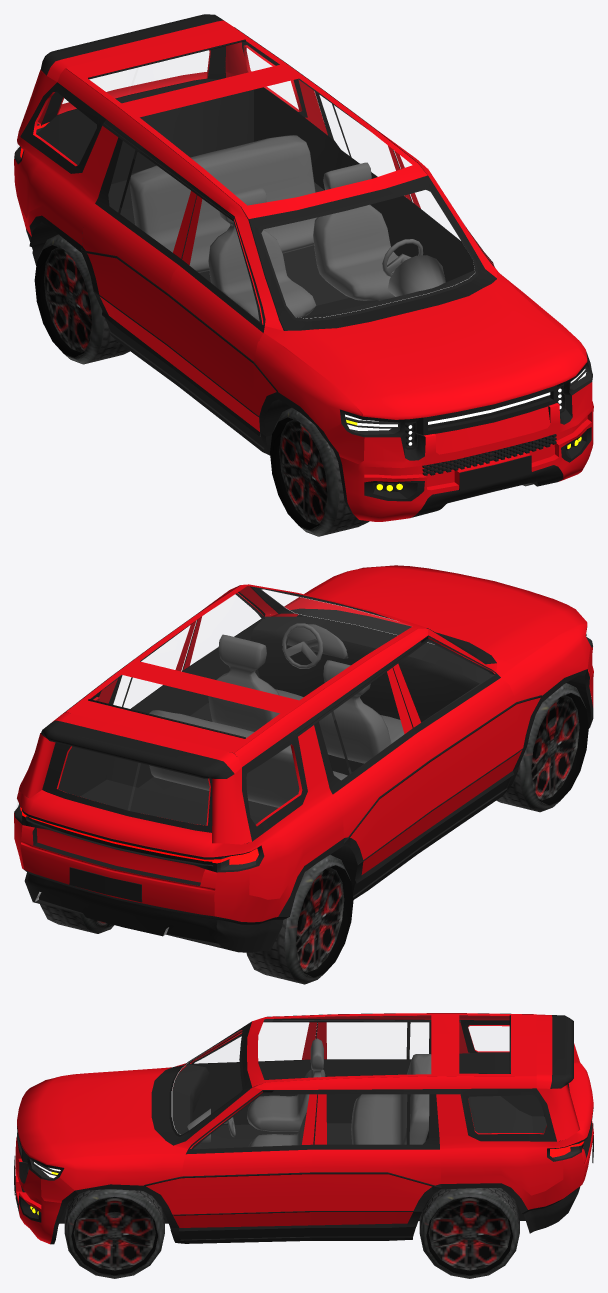
Rendered from rivian_r1s.glb.
3 views of the same model, one above another, from view 1: azimuth 30°, elevation 25°; view 2: azimuth 150°, elevation 25°; view 3: azimuth 270°, elevation 25° (orthographic). The views are drawn at different scales.
Visible parts, largest first — view 1: Cube.005, Plane.014, Cube.001, Plane.027, Plane, Plane.008, Plane.006, Plane.001, Cylinder.005, Cylinder.004, Plane.080, Plane.035 (+10 smaller); view 2: Cube.005, Plane.014, Cube.001, Plane.001, Plane.027, Plane.008, Plane.006, Cylinder.004, Plane.002, Cylinder.005, Plane.035, Plane (+8 smaller); view 3: Cube.005, Plane.014, Plane.008, Plane.027, Plane.006, Cube.001, Plane.001, Cylinder.003, Cylinder.001, Plane, Plane.035, Plane.080 (+6 smaller).
Part boxes in pixels (x1,y1,x2,y2): Cube.005: (14, 27, 592, 519); Plane.014: (263, 270, 587, 419); Cube.001: (130, 135, 445, 321); Plane.027: (57, 27, 427, 218); Plane: (254, 277, 593, 521); Plane.008: (167, 265, 508, 429); Plane.006: (82, 204, 178, 364); Plane.001: (14, 72, 327, 235); Cylinder.005: (270, 407, 369, 536); Cylinder.004: (34, 234, 129, 364); Plane.080: (249, 175, 496, 330); Plane.035: (40, 14, 233, 81); Cube.005: (14, 585, 593, 952); Plane.014: (264, 565, 586, 676); Cube.001: (149, 623, 404, 807); Plane.001: (17, 679, 343, 899); Plane.027: (61, 584, 427, 766); Plane.008: (417, 677, 517, 830); Plane.006: (333, 733, 431, 874); Cylinder.004: (246, 854, 353, 984); Plane.002: (20, 825, 216, 916); Cylinder.005: (496, 683, 588, 812); Plane.035: (40, 712, 241, 778); Plane: (271, 570, 593, 707); Cube.005: (14, 1013, 593, 1244); Plane.014: (17, 1065, 187, 1164); Plane.008: (180, 1149, 312, 1227); Plane.027: (247, 1013, 536, 1089); Plane.006: (310, 1149, 441, 1225); Cube.001: (187, 1038, 431, 1146); Plane.001: (436, 1022, 593, 1195); Cylinder.003: (419, 1188, 519, 1278); Cylinder.001: (64, 1189, 164, 1278); Plane: (15, 1066, 185, 1243); Plane.035: (536, 1014, 573, 1088); Plane.080: (151, 1021, 251, 1144).
Size of the model in its own units: 1.26 by 1.14 by 3.17.
9 materials, 1 textured.
